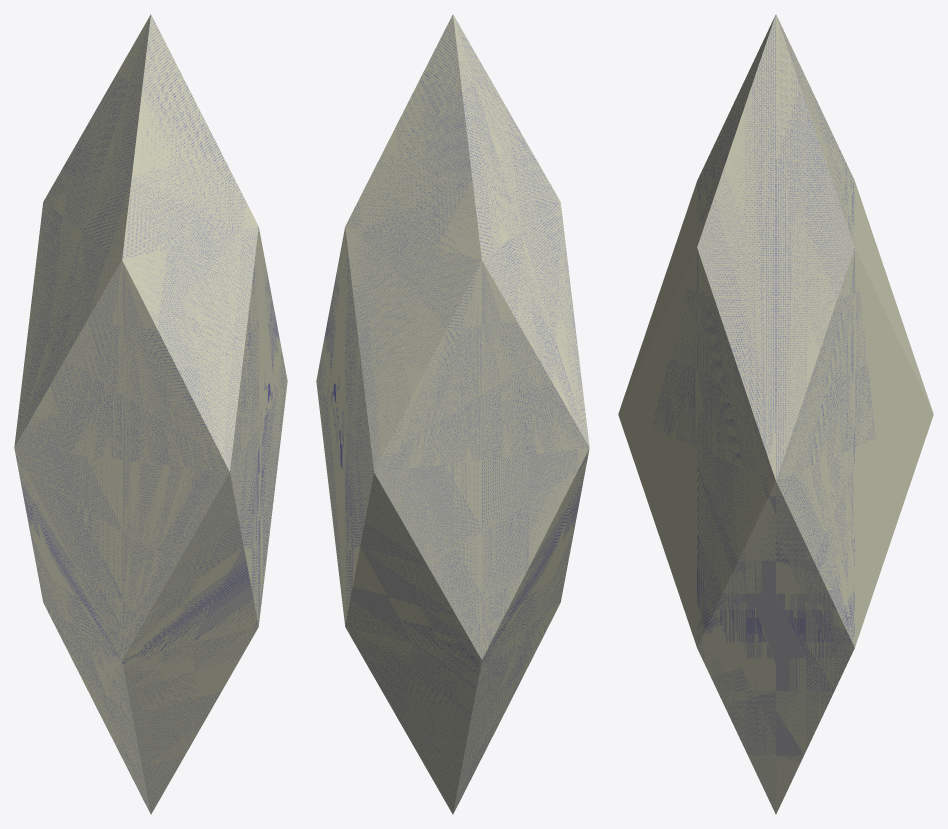
Rendered from Menhir1.dae.
The picture shows the model from 3 angles, left to right: view 1: azimuth 30°, elevation 25°; view 2: azimuth 150°, elevation 25°; view 3: azimuth 270°, elevation 25°; orthographic projection.
Visible parts, largest first — view 1: SketchUp; view 2: SketchUp; view 3: SketchUp.
Part boxes in pixels (<box>): SketchUp: <box>14,14,287,814</box>; SketchUp: <box>316,14,589,814</box>; SketchUp: <box>618,14,933,814</box>.
Bounding box in the file's own units: 15.75 × 15.75 × 44.09.
